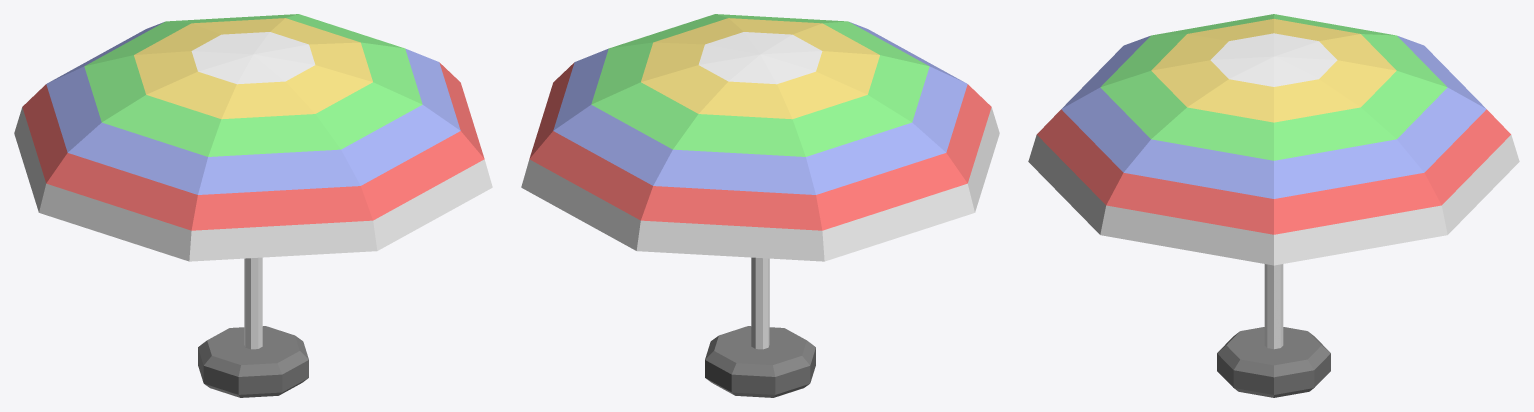
File: plaj şemsiyesi.fbx
The picture shows the model from 3 angles, left to right: view 1: azimuth 30°, elevation 25°; view 2: azimuth 150°, elevation 25°; view 3: azimuth 270°, elevation 25°; orthographic projection.
Visible parts, largest first — view 1: pSphere1, pCylinder2, pCylinder1; view 2: pSphere1, pCylinder2, pCylinder1; view 3: pSphere1, pCylinder2, pCylinder1.
Part boxes in pixels (bbox=[...]): pSphere1: bbox=[14, 14, 492, 261]; pCylinder2: bbox=[198, 326, 308, 397]; pCylinder1: bbox=[244, 257, 262, 349]; pSphere1: bbox=[521, 14, 999, 261]; pCylinder2: bbox=[705, 326, 815, 397]; pCylinder1: bbox=[751, 257, 769, 349]; pSphere1: bbox=[1028, 14, 1519, 265]; pCylinder2: bbox=[1217, 327, 1330, 397]; pCylinder1: bbox=[1264, 264, 1283, 349].
Bounding box in the file's own units: 360 × 259 × 360.
